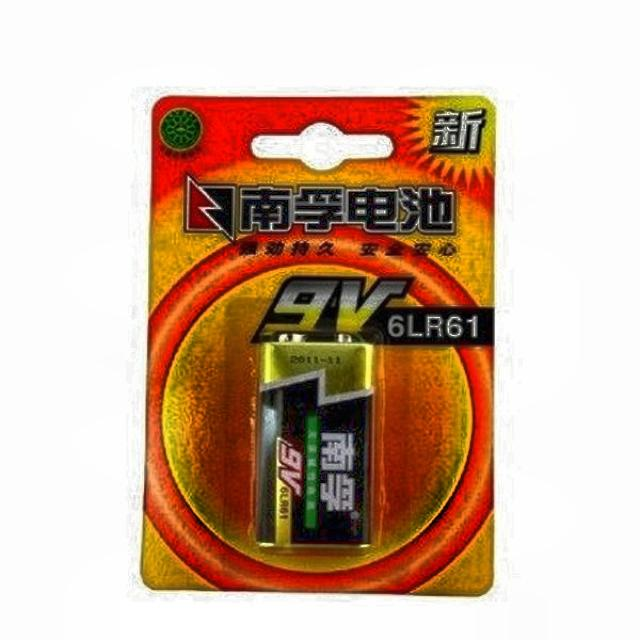Non-Valuable Waste - Batteries: (258, 334, 375, 547)
